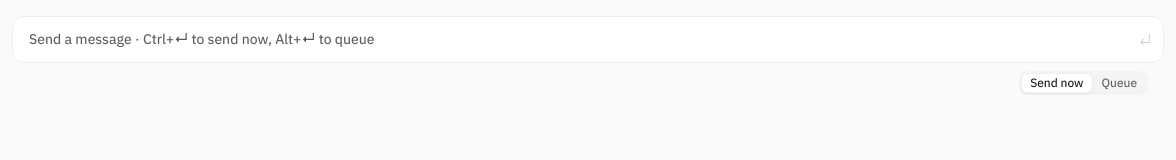
it: a send-now the run could not take › says the message was queued instead, so the outcome matches what was pressed
Type "hold on" into the text box with placeholder "Send a message · Ctrl+↵ to send now, Alt+↵ to queue" at (588, 40), box [13,17,1163,62]
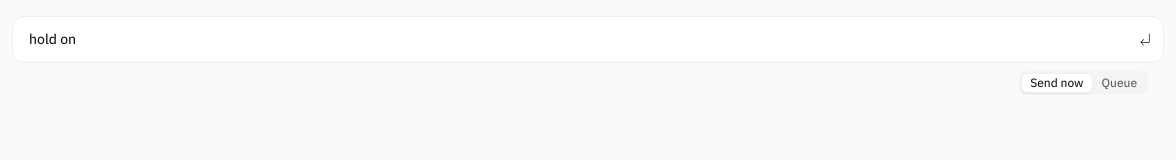
Click the button with class "composer-send" at (1145, 40), box [1131,26,1159,54]
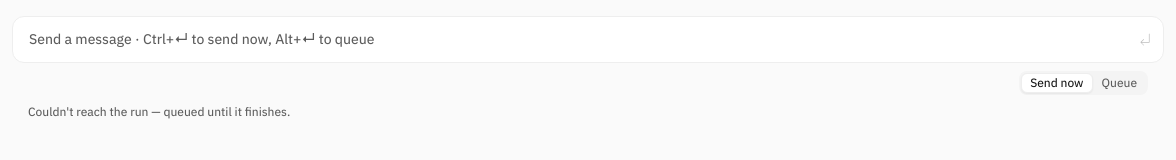
Expected: the text "Couldn't reach the run — queued until it finishes." is shown, [28,104,290,119]
